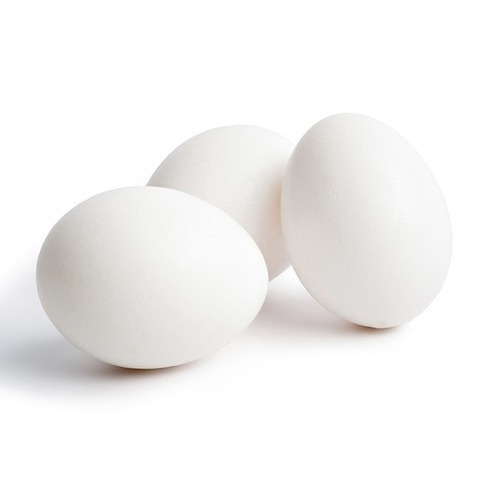Egg: (278, 102, 464, 341)
